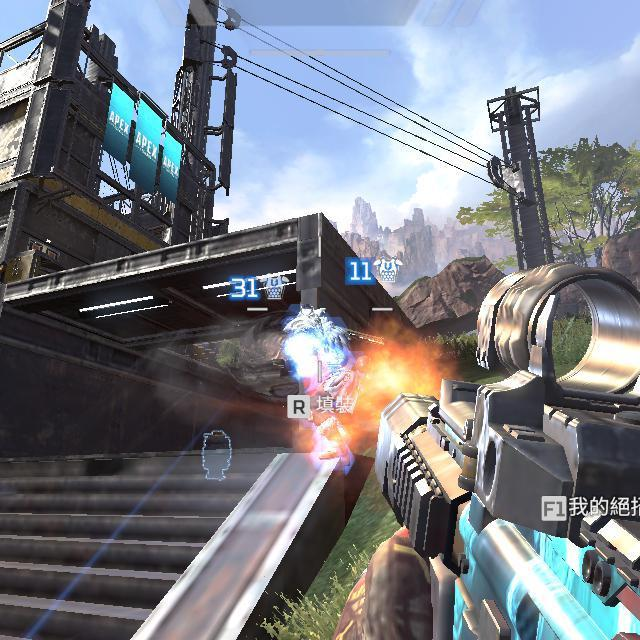avatar: (282, 305, 359, 463)
